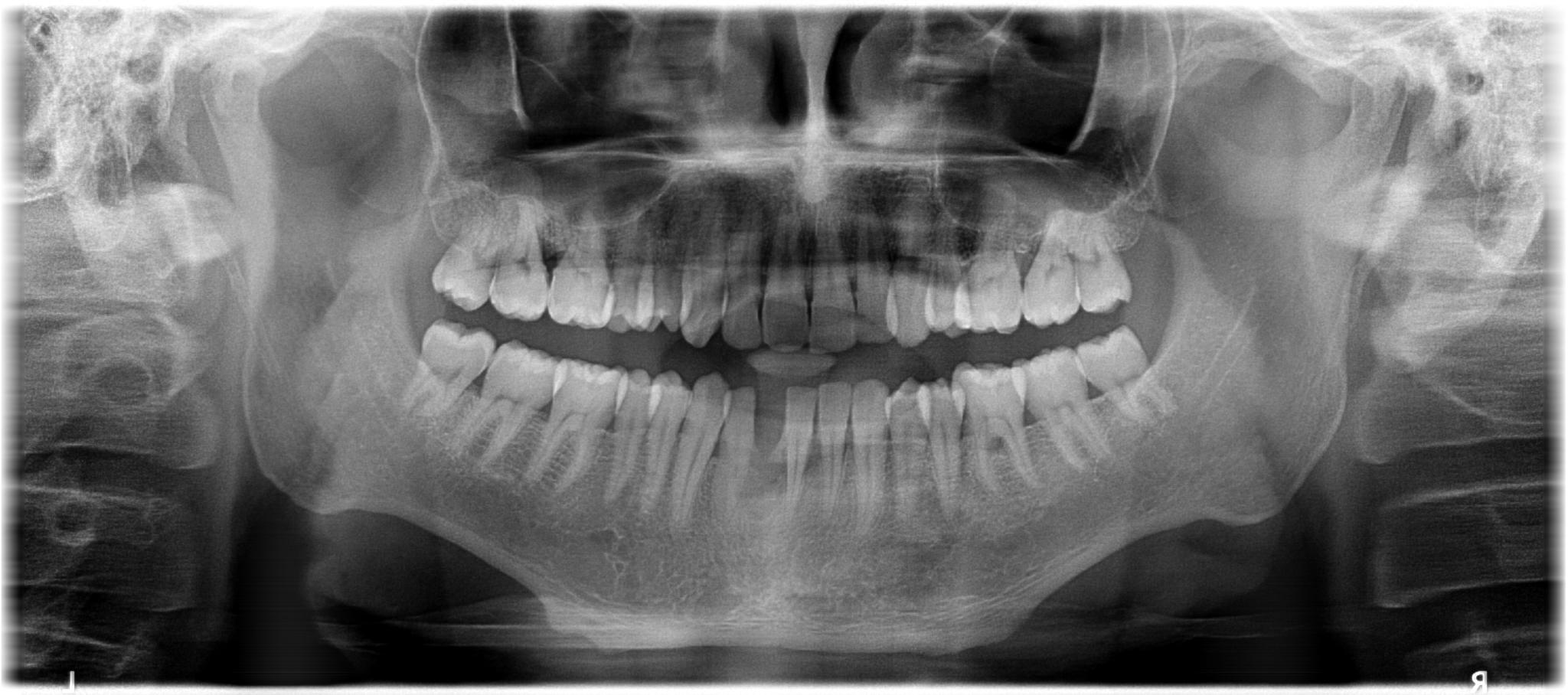Premolars: (534, 271, 1565, 695)
